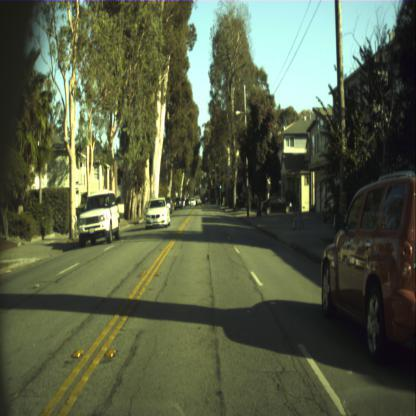Green: (219, 180, 221, 188), (201, 173, 203, 178)
